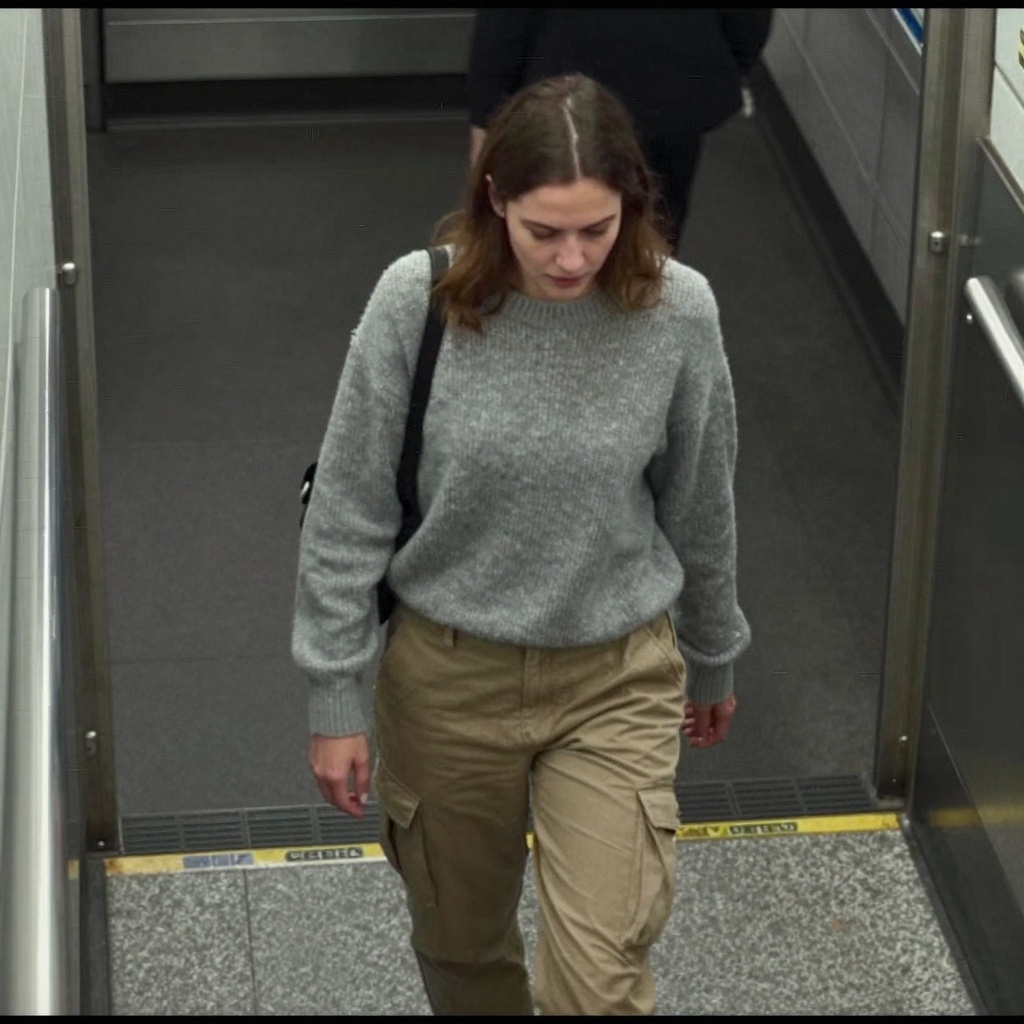Normal activity: (290, 70, 751, 1002), (465, 7, 775, 256)
